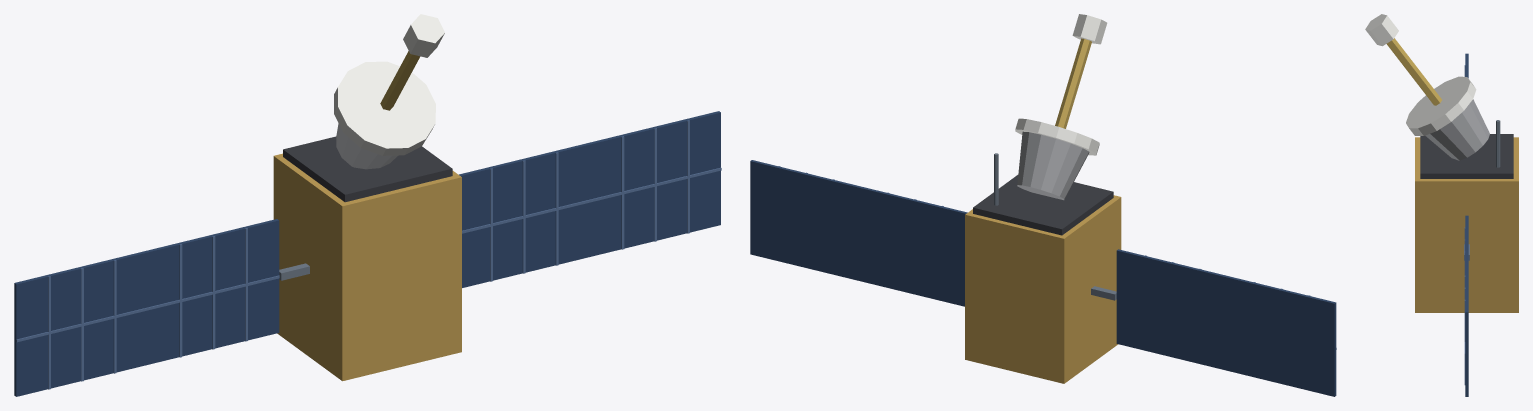
The model's file is Pay_Satellite_M.fbx.
3 renders of one model, left to right at view 1: azimuth 30°, elevation 25°; view 2: azimuth 150°, elevation 25°; view 3: azimuth 270°, elevation 25°, orthographic. The views are drawn at different scales.
Parts seen in each view (by area): view 1: Pay_Satellite_M; view 2: Pay_Satellite_M; view 3: Pay_Satellite_M.
Part boxes in pixels (box(x1,y1,x2,y2)): Pay_Satellite_M: box(14, 14, 721, 396); Pay_Satellite_M: box(750, 14, 1336, 396); Pay_Satellite_M: box(1365, 14, 1518, 396).
Bounding box in the file's own units: 5.9 × 2.93 × 1.48.
1 material, 1 textured.
